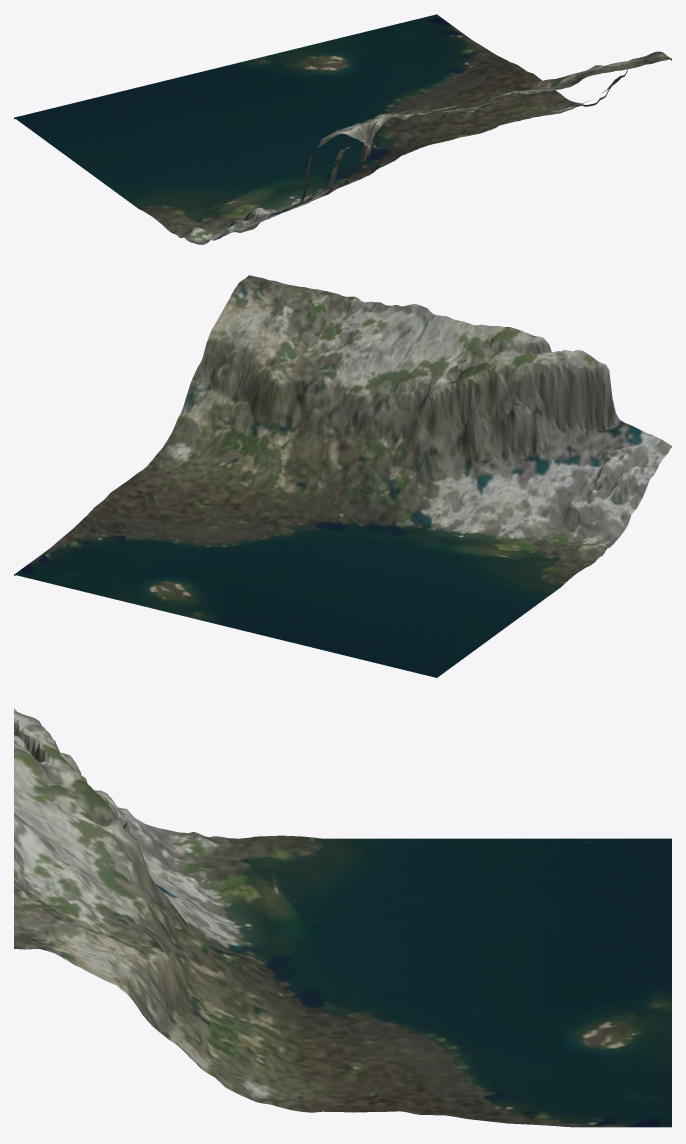
3 views of the same model, one above another, from view 1: azimuth 30°, elevation 25°; view 2: azimuth 150°, elevation 25°; view 3: azimuth 270°, elevation 25° (orthographic). The views are drawn at different scales.
Bounding box in the file's own units: 250 × 79.83 × 241.
1 material, 1 textured.
